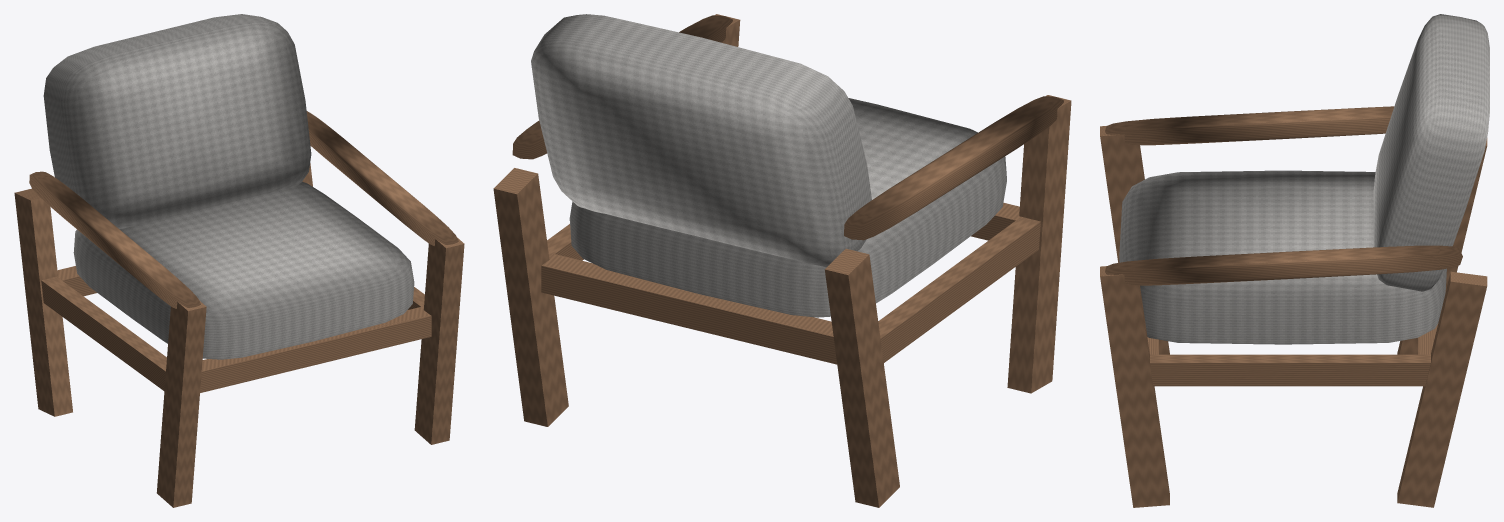
3 views of the same model, side by side, from view 1: azimuth 30°, elevation 25°; view 2: azimuth 150°, elevation 25°; view 3: azimuth 270°, elevation 25° (orthographic). The views are drawn at different scales.
Visible parts, largest first — view 1: 2 backrest, 1 seat, 5 left_front_leg, 7 left_back_leg, 6 right_front_leg, 11 front_rail, 3 left_armrest, 4 right_armrest, 9 left_side_rail, 12 back_rail; view 2: 2 backrest, 1 seat, 7 left_back_leg, 12 back_rail, 8 right_back_leg, 5 left_front_leg, 3 left_armrest, 9 left_side_rail, 4 right_armrest, 11 front_rail, 10 right_side_rail; view 3: 1 seat, 2 backrest, 8 right_back_leg, 4 right_armrest, 10 right_side_rail, 6 right_front_leg, 3 left_armrest, 5 left_front_leg, 7 left_back_leg.
Part boxes in pixels (<box>): 2 backrest: <box>43,14,311,229</box>; 1 seat: <box>73,181,414,359</box>; 5 left_front_leg: <box>156,300,206,507</box>; 7 left_back_leg: <box>14,188,72,416</box>; 6 right_front_leg: <box>414,237,464,444</box>; 11 front_rail: <box>200,306,431,392</box>; 3 left_armrest: <box>29,171,200,308</box>; 4 right_armrest: <box>306,111,458,245</box>; 9 left_side_rail: <box>41,277,166,390</box>; 12 back_rail: <box>55,266,96,296</box>; 2 backrest: <box>531,14,871,267</box>; 1 seat: <box>569,98,1006,317</box>; 7 left_back_leg: <box>824,248,899,507</box>; 12 back_rail: <box>541,253,837,364</box>; 8 right_back_leg: <box>493,168,568,426</box>; 5 left_front_leg: <box>1007,95,1071,393</box>; 3 left_armrest: <box>844,96,1063,240</box>; 9 left_side_rail: <box>878,217,1040,362</box>; 4 right_armrest: <box>512,15,732,159</box>; 11 front_rail: <box>971,202,1022,240</box>; 10 right_side_rail: <box>547,224,583,260</box>; 1 seat: <box>1119,170,1446,344</box>; 2 backrest: <box>1373,14,1489,291</box>; 8 right_back_leg: <box>1397,271,1487,507</box>; 4 right_armrest: <box>1105,245,1462,285</box>; 10 right_side_rail: <box>1150,354,1430,386</box>; 6 right_front_leg: <box>1100,266,1169,507</box>; 3 left_armrest: <box>1105,106,1394,145</box>; 5 left_front_leg: <box>1100,126,1169,354</box>; 7 left_back_leg: <box>1397,138,1487,354</box>.
Size of the model in its own units: 0.6909 by 0.7899 by 0.7493.
Materials: 2 (2 with a texture image).
